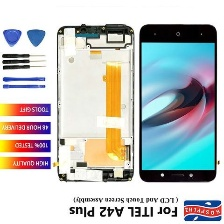phone: (136, 20, 218, 188), (54, 22, 136, 186)
